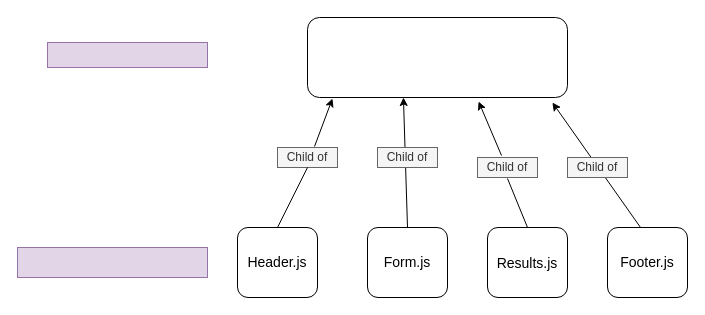
This 705x315 diagram has some shape labels left out. Each missing label, with the centre of its shape:
App.js: (x=437, y=57)
Class component: (x=127, y=55)
Function components: (x=112, y=262)
